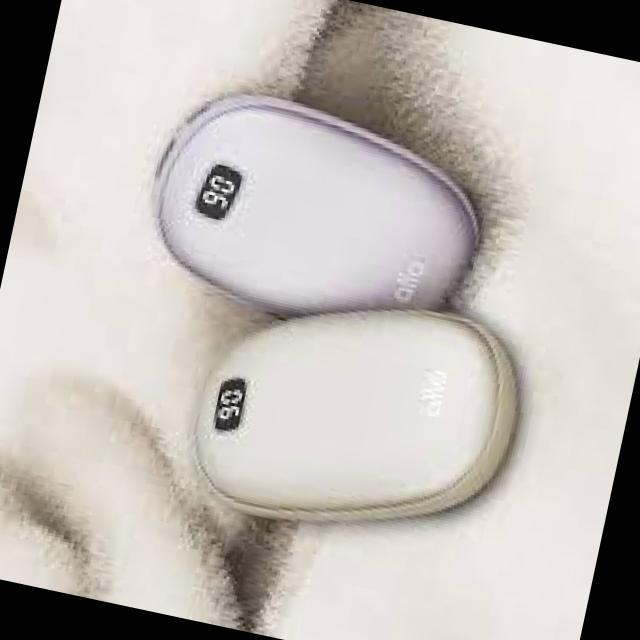power_bank: (174, 253, 546, 570), (123, 66, 510, 352)
